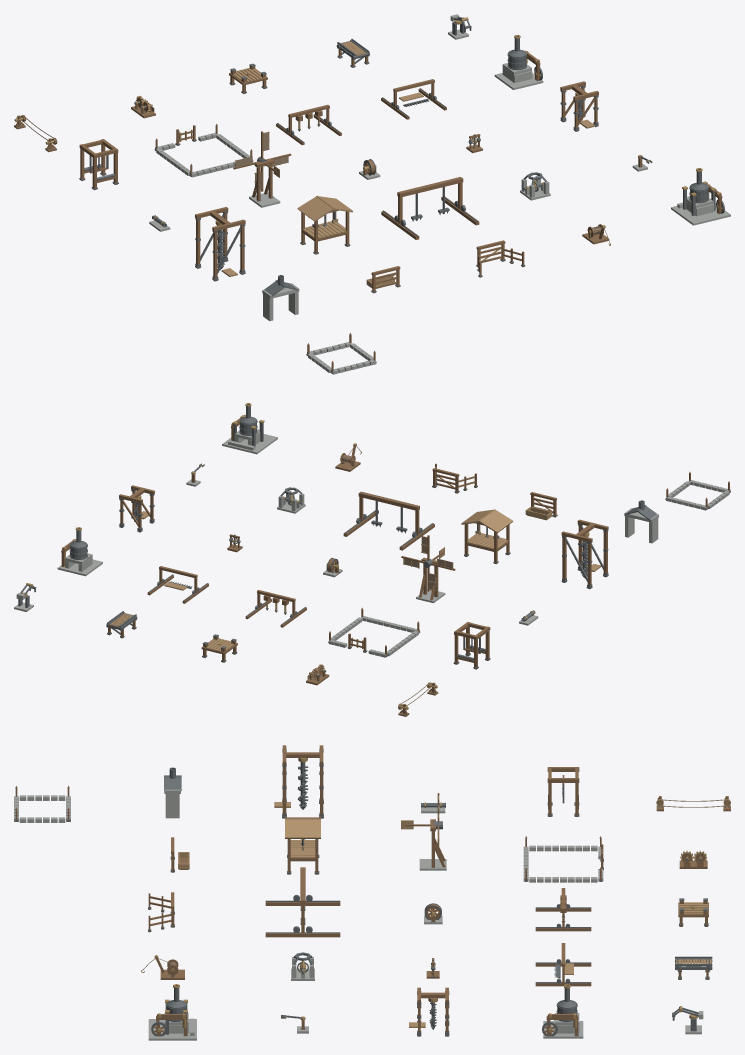
File: VikingFactory-Expansion-All.glb
3 views of the same model, one above another, from view 1: azimuth 30°, elevation 25°; view 2: azimuth 150°, elevation 25°; view 3: azimuth 270°, elevation 25° (orthographic). The views are drawn at different scales.
Visible parts, largest first — view 1: Static_Stone (×5), Static_Oak (×4), Static_OakLight, Carriage_Oak, Static_Iron; view 2: Static_Stone (×5), Static_Oak (×4), Static_OakLight, Carriage_Oak, Static_Iron; view 3: Static_Stone (×4), Static_Oak (×5), Static_OakLight.
Part boxes in pixels (x1,y1,x2,y2): Static_Stone (×5): (155, 63, 730, 374); Static_Oak (×4): (79, 81, 598, 281); Static_OakLight: (297, 195, 352, 238); Carriage_Oak: (397, 177, 463, 223); Static_Iron: (683, 169, 720, 215); Static_Stone (×5): (57, 429, 730, 657); Static_Oak (×4): (119, 485, 608, 669); Static_OakLight: (461, 509, 512, 549); Carriage_Oak: (358, 491, 419, 535); Static_Iron: (233, 404, 263, 446); Static_Stone (×4): (14, 795, 603, 1040); Static_Oak (×5): (148, 745, 579, 1036); Static_OakLight: (285, 817, 320, 858).
Size of the model in its own units: 30.78 by 4.3 by 38.54.
